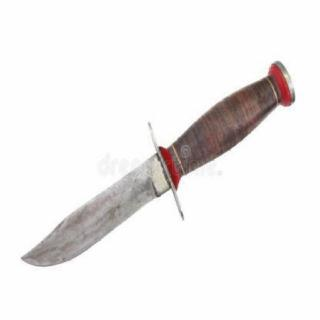knife: (18, 139, 198, 275)
